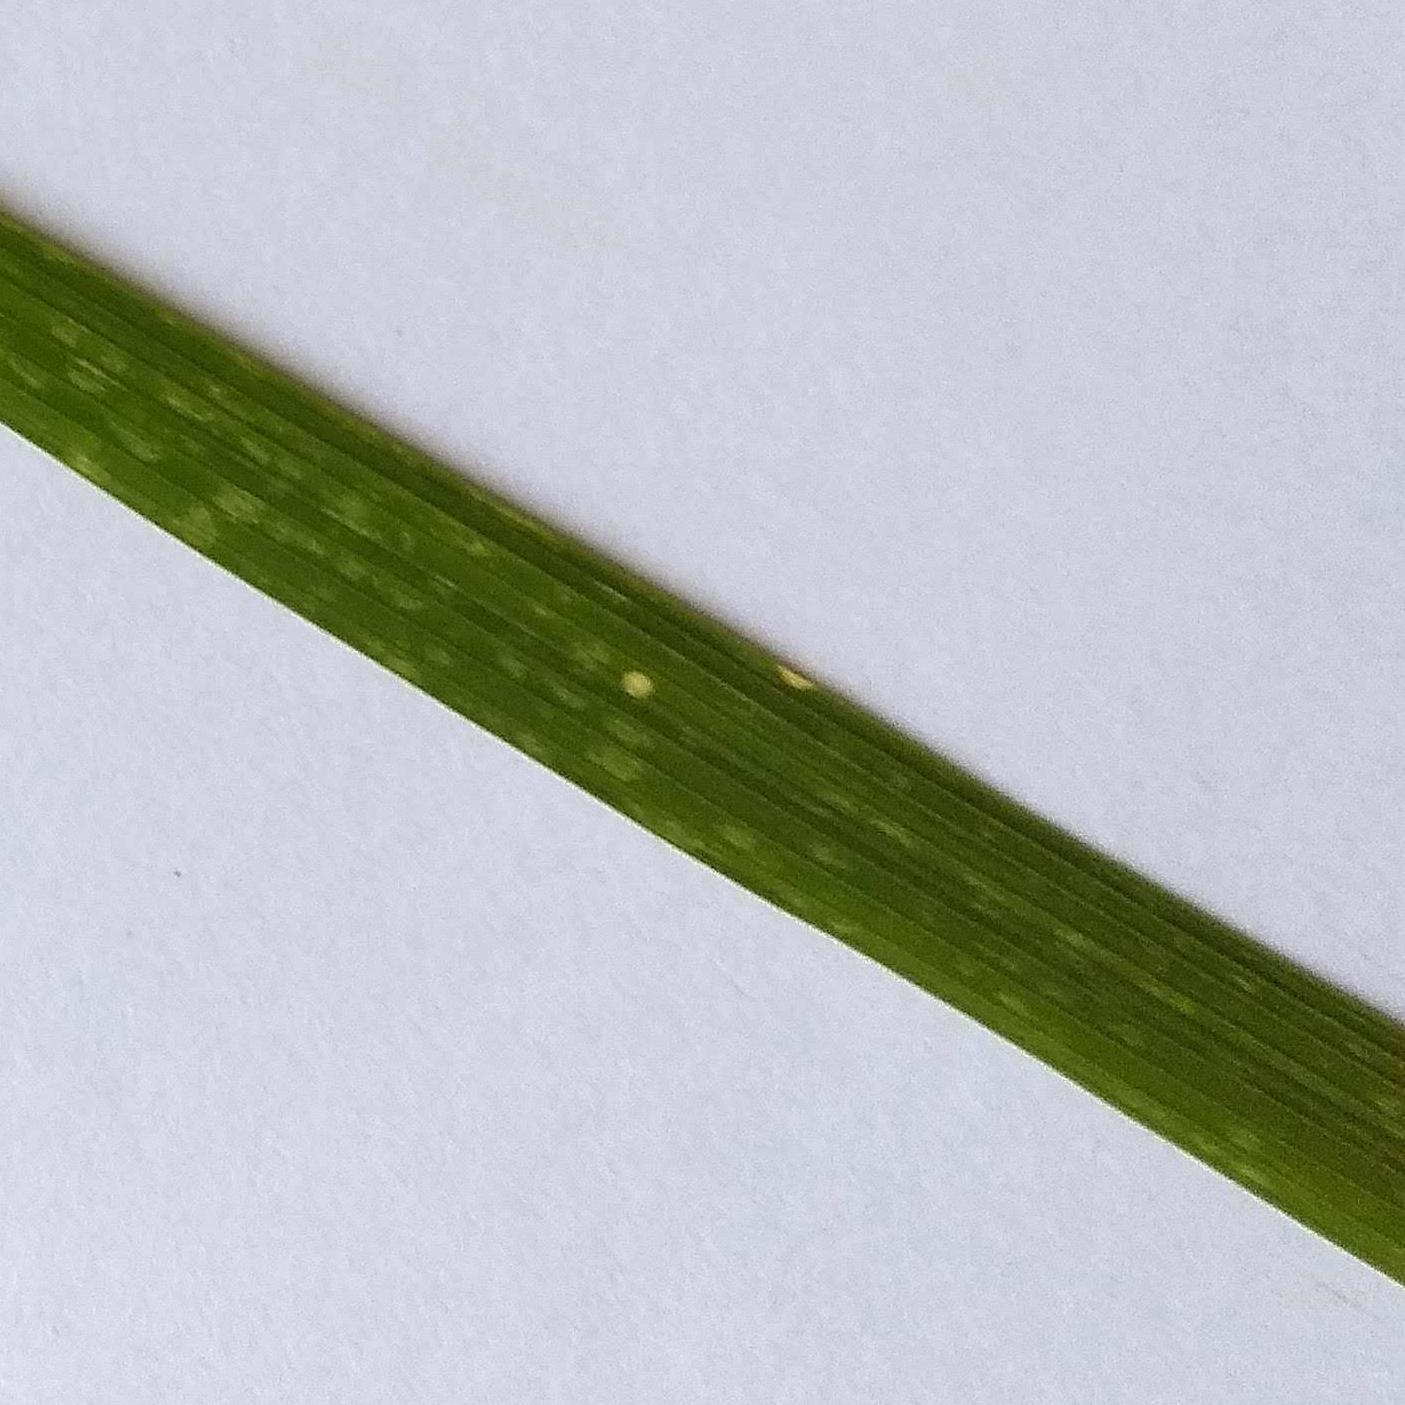1 RiceBlast: (741, 637, 841, 704), (603, 634, 672, 723)
